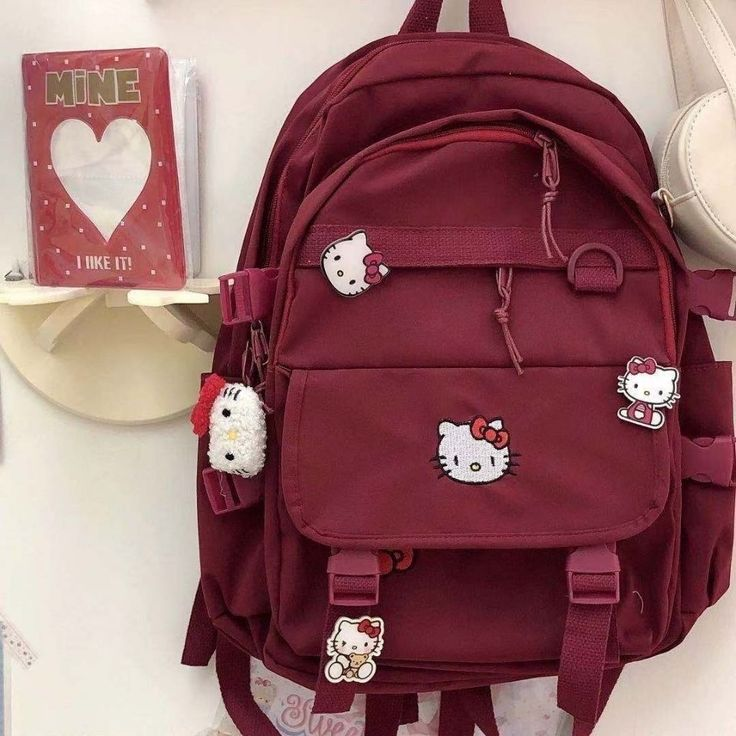nylon: (180, 1, 736, 736)
